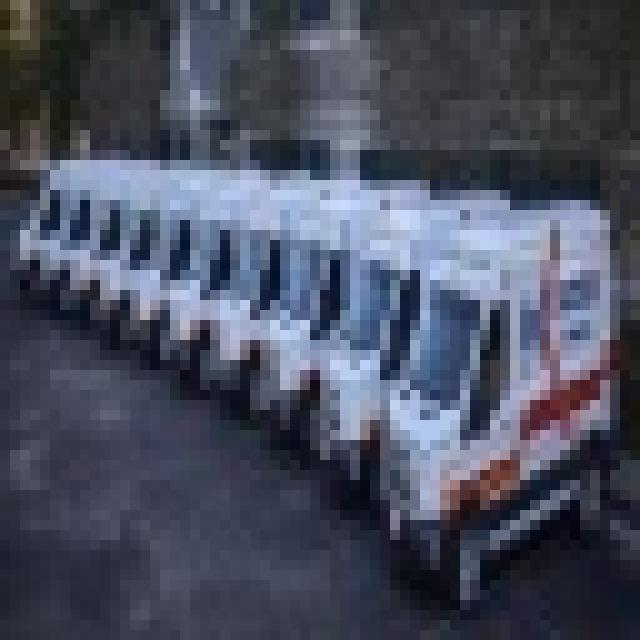Ambulance: (10, 150, 620, 600)
